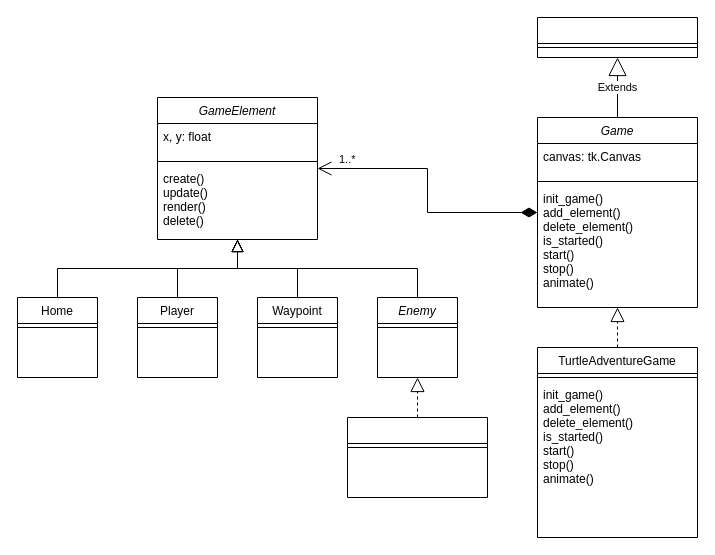
This 715x555 diagram has some shape labels left out. Each missing label, with the centre of its shape:
"ConcreteEnemy" belongs at [417,457].
"tk.Frame" belongs at [617,37].
